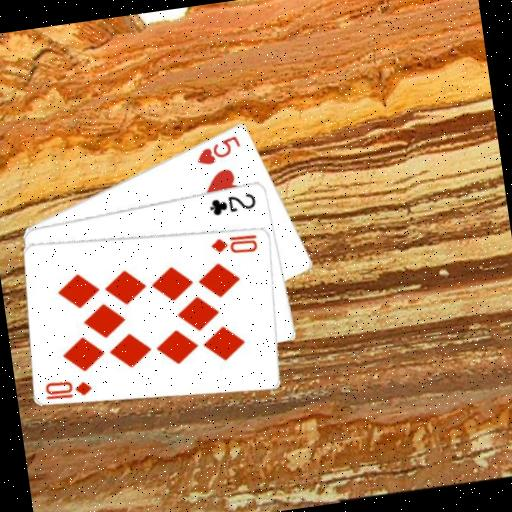10D: (41, 373, 96, 403), (207, 229, 260, 259)
2C: (205, 189, 259, 218)
5H: (191, 131, 245, 168)
